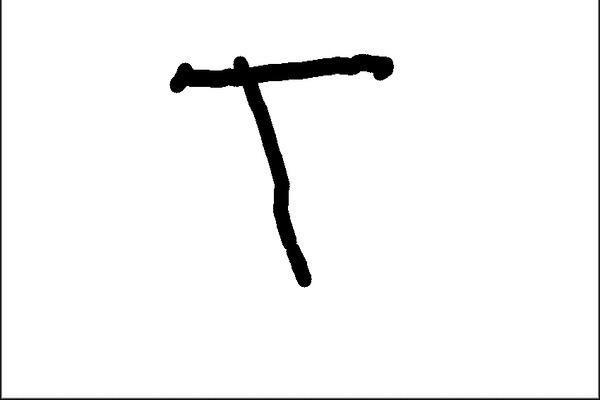T: (162, 47, 401, 288)
